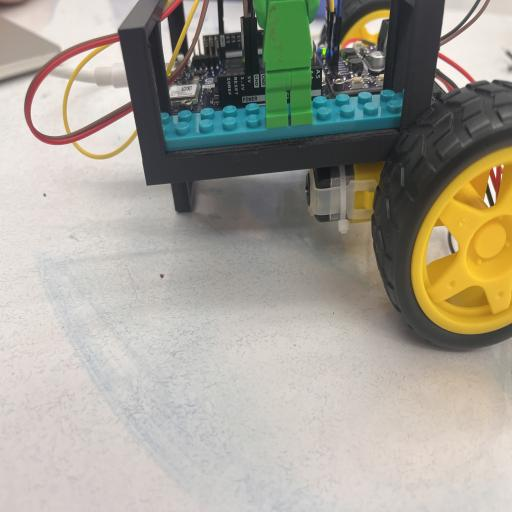Lego-Minifig: (254, 0, 319, 128)
